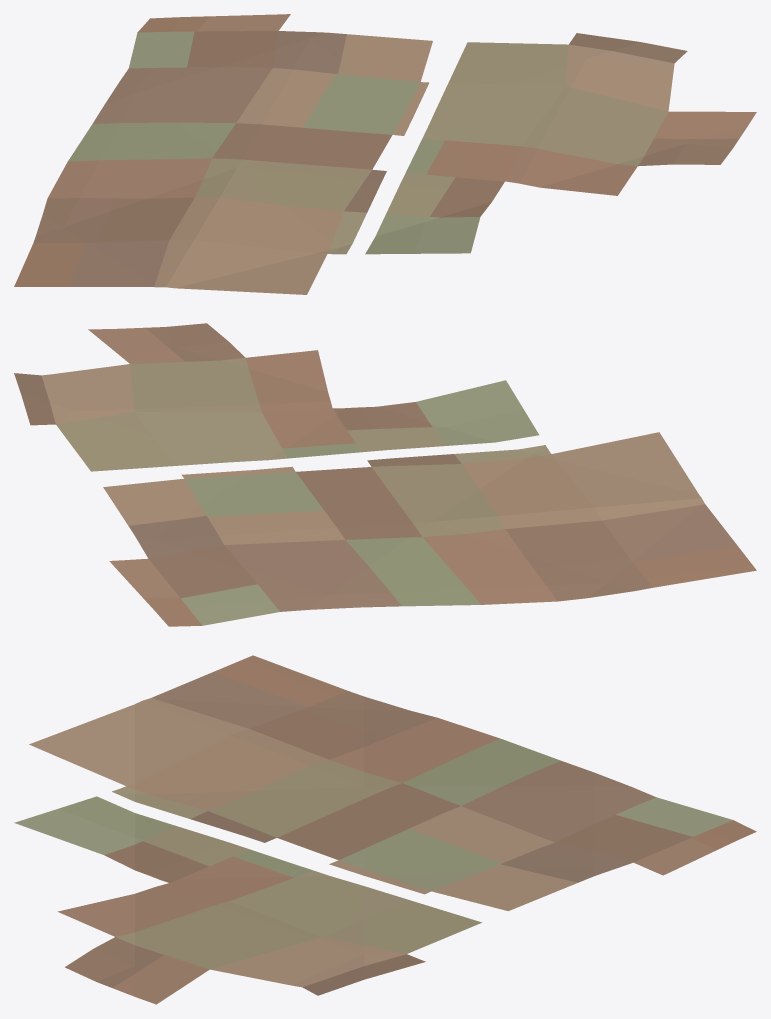
Rendered from farm_4_-4_soil.glb.
3 views of the same model, one above another, from view 1: azimuth 30°, elevation 25°; view 2: azimuth 150°, elevation 25°; view 3: azimuth 270°, elevation 25° (orthographic). The views are drawn at different scales.
Visible parts, largest first — view 1: geometry_0; view 2: geometry_0; view 3: geometry_0.
Part boxes in pixels (bbox=[...]): geometry_0: bbox=[14, 14, 756, 294]; geometry_0: bbox=[14, 323, 756, 626]; geometry_0: bbox=[14, 655, 756, 1004].
Size of the model in its own units: 322 by 20.3 by 259.
